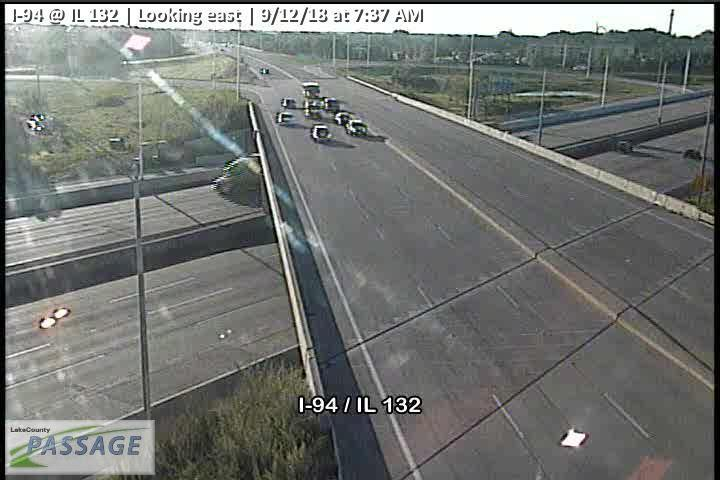Sedan: (312, 125, 333, 142), (346, 120, 368, 135), (276, 111, 293, 125), (323, 98, 339, 112), (280, 97, 295, 108)
